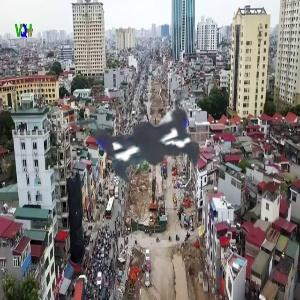drone: (19, 8, 275, 264)
